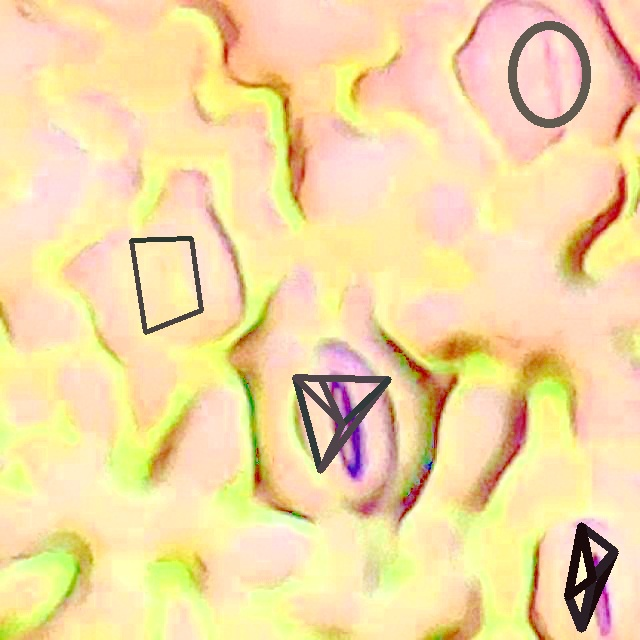close: (507, 20, 591, 128), (129, 236, 203, 334)
open: (292, 375, 391, 473), (565, 523, 618, 632)
